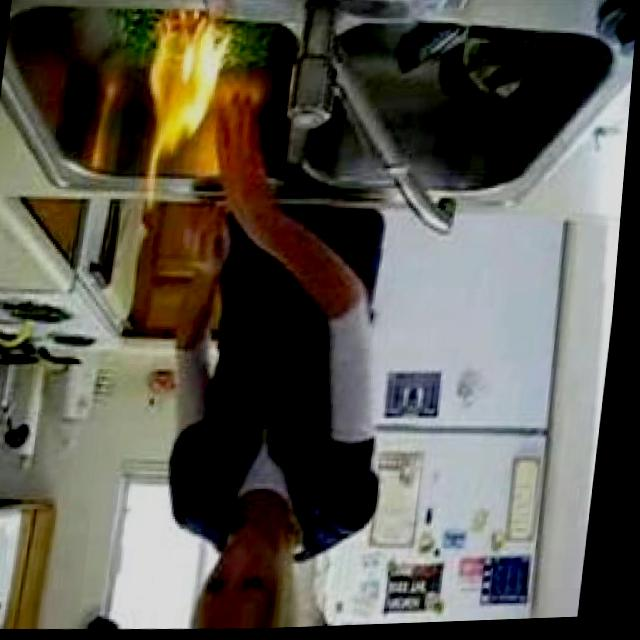helmet: (134, 16, 232, 214)
